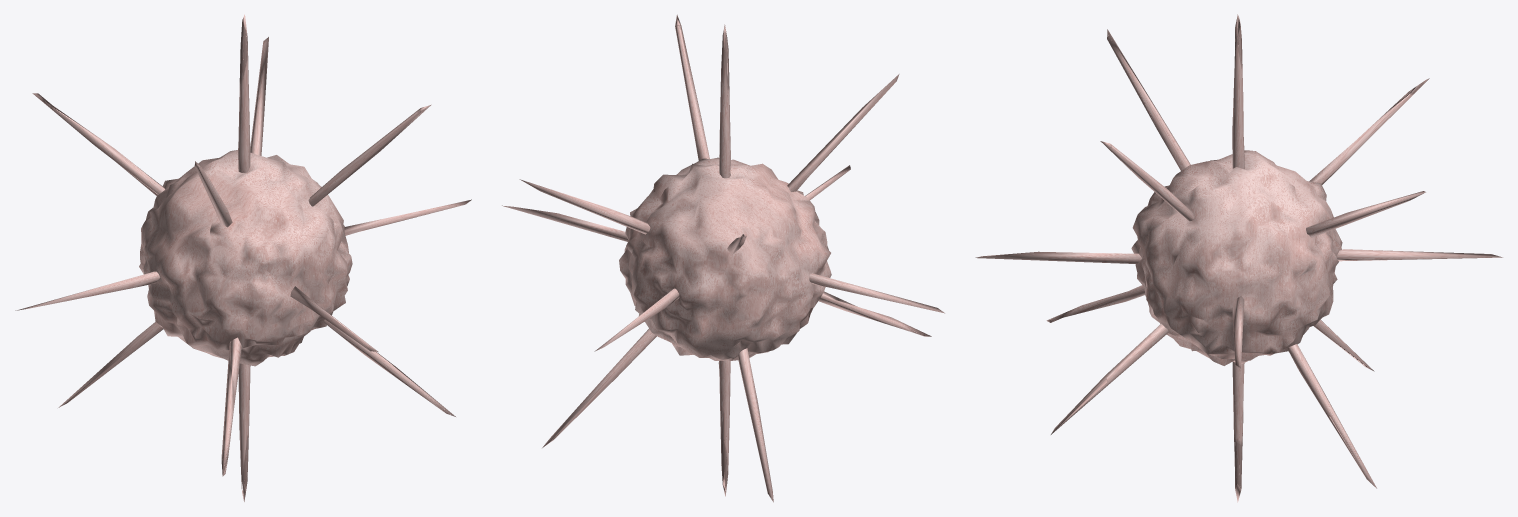
Rendered from FinalChanges-Macrophage.fbx.
The picture shows the model from 3 angles, left to right: view 1: azimuth 30°, elevation 25°; view 2: azimuth 150°, elevation 25°; view 3: azimuth 270°, elevation 25°; orthographic projection. The views are drawn at different scales.
Visible parts, largest first — view 1: MacrophageWithTentacles; view 2: MacrophageWithTentacles; view 3: MacrophageWithTentacles.
Part boxes in pixels (left/top/right/bottom): MacrophageWithTentacles: left=15, top=14, right=471, bottom=501; MacrophageWithTentacles: left=502, top=14, right=944, bottom=502; MacrophageWithTentacles: left=975, top=14, right=1502, bottom=502.
Bounding box in the file's own units: 914 × 932 × 913.
1 material, 1 textured.
